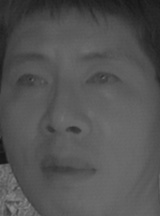eye: (85, 67, 124, 92), (13, 68, 49, 89)
mouth: (36, 148, 100, 190)
